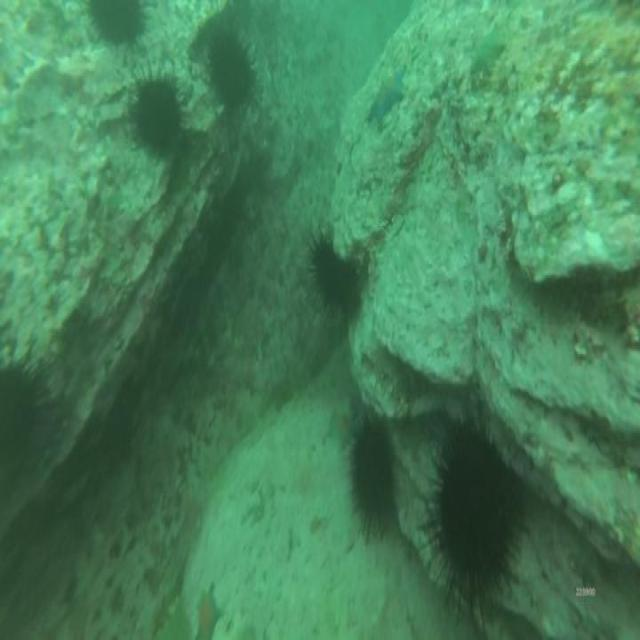echinus: (436, 436, 512, 590), (349, 422, 392, 526), (1, 370, 42, 471), (134, 76, 180, 156), (313, 238, 359, 314), (208, 38, 252, 106), (91, 3, 144, 44)
starfish: (368, 74, 402, 128), (471, 19, 505, 71), (196, 589, 220, 640)
